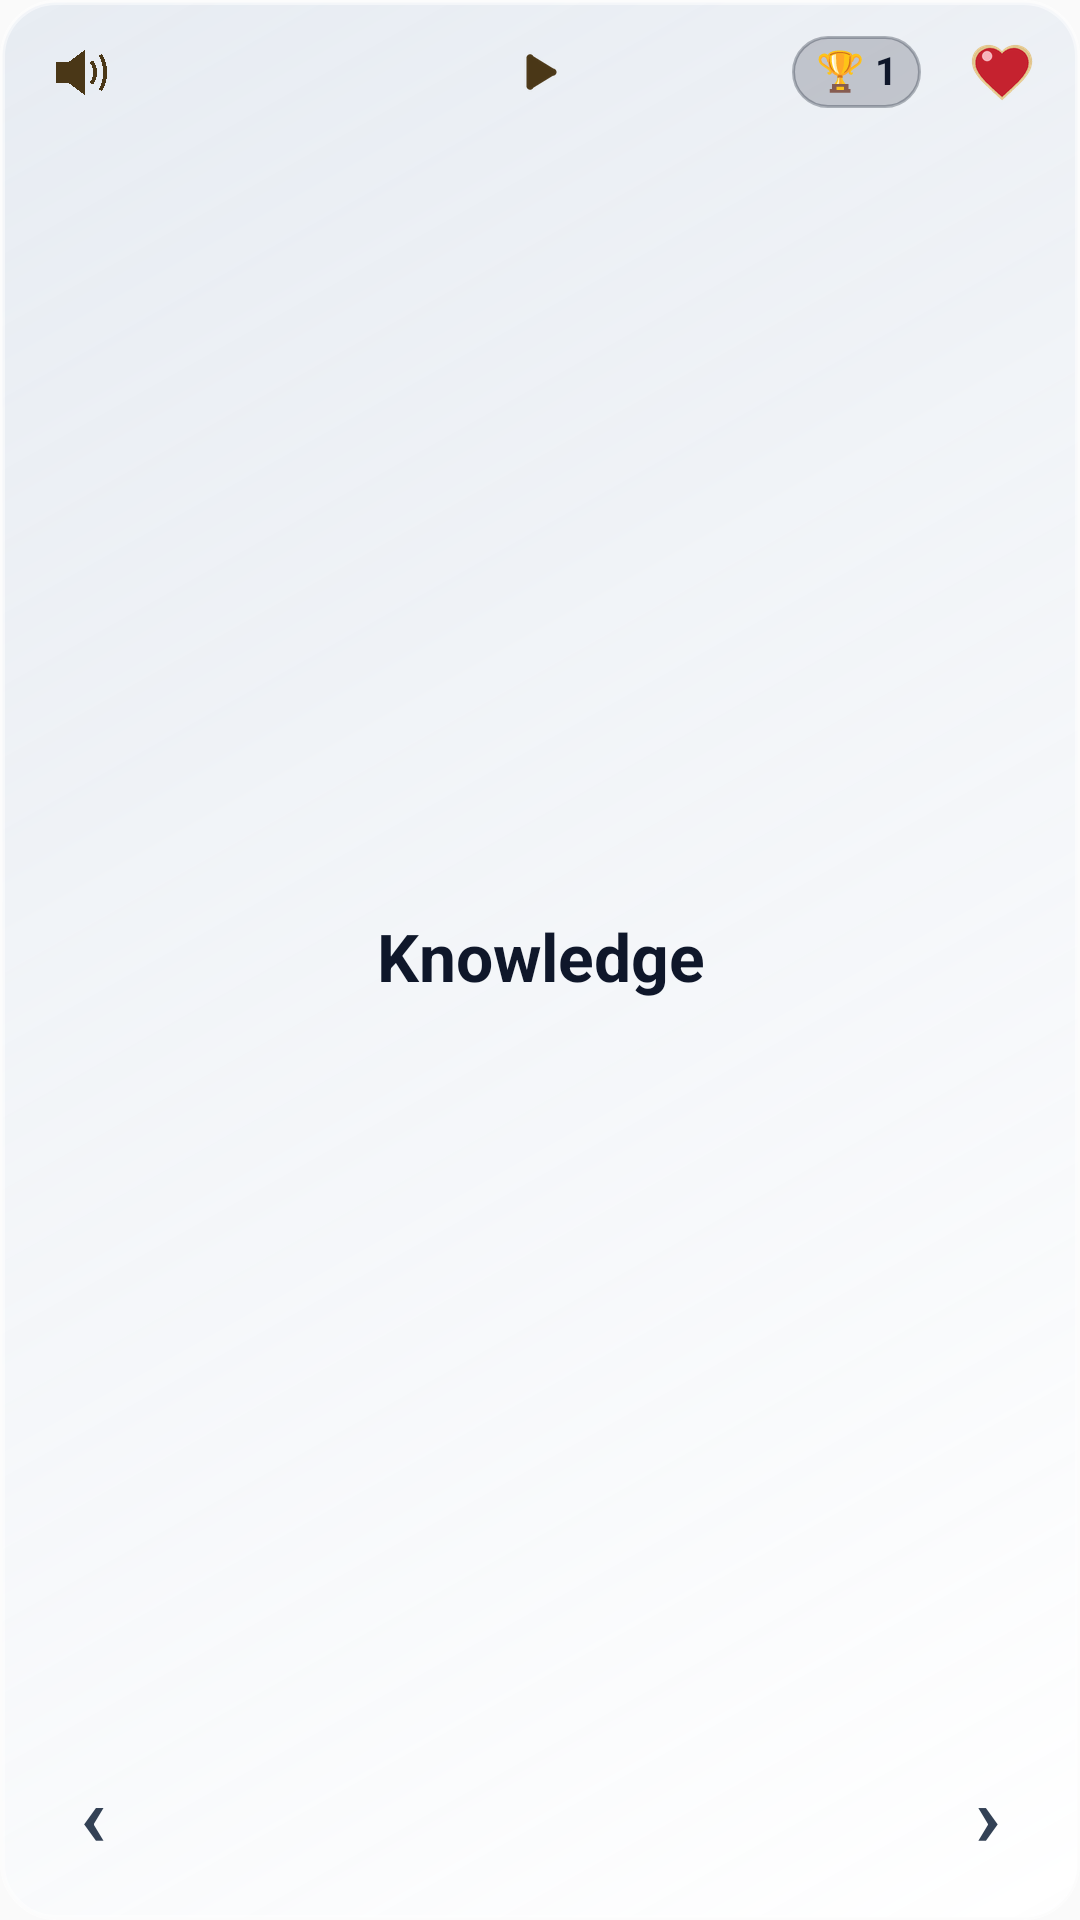

Screen size 1080 x 1920. Icon name, then its center in pixels as [x,y]:
Избранное: [1002,72]
Непрерывное воспроизведение: [541,72]
Произнести слово: [81,72]
